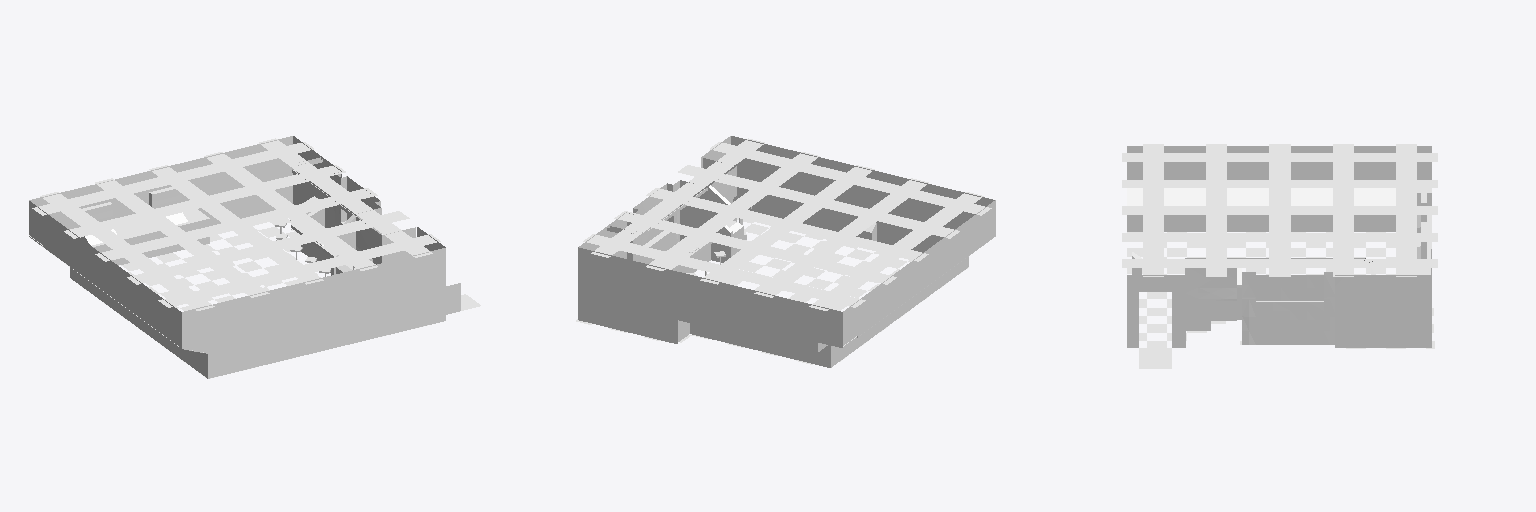
Rendered from OPT.obj.
3 renders of one model, left to right at view 1: azimuth 30°, elevation 25°; view 2: azimuth 150°, elevation 25°; view 3: azimuth 270°, elevation 25°, orthographic.
Visible parts, largest first — view 1: OPT; view 2: OPT; view 3: OPT.
Boxes of the visible parts, x1,y1,x2,y2 form: OPT: [29, 136, 480, 378]; OPT: [576, 136, 995, 367]; OPT: [1122, 144, 1437, 368].
Size of the model in its own units: 141 by 31.75 by 123.